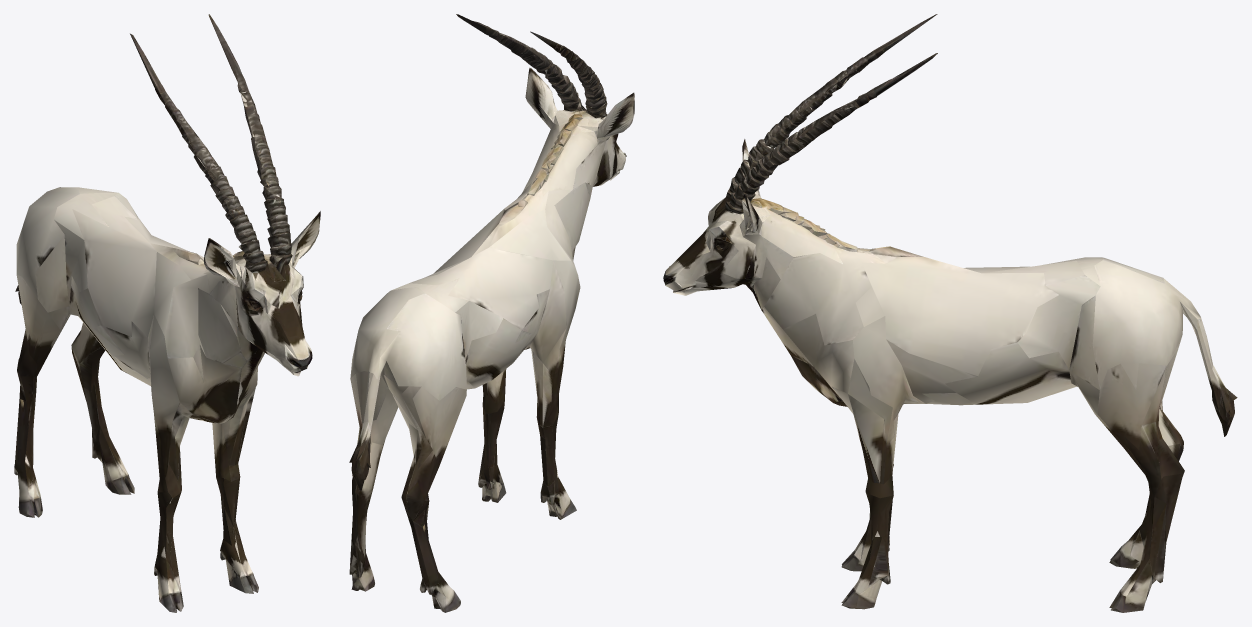
File: oryx.glb
3 renders of one model, left to right at view 1: azimuth 30°, elevation 25°; view 2: azimuth 150°, elevation 25°; view 3: azimuth 270°, elevation 25°, orthographic. The views are drawn at different scales.
Bounding box in the file's own units: 0.4198 × 1.9 × 1.78.
Materials: 1 (1 with a texture image).
